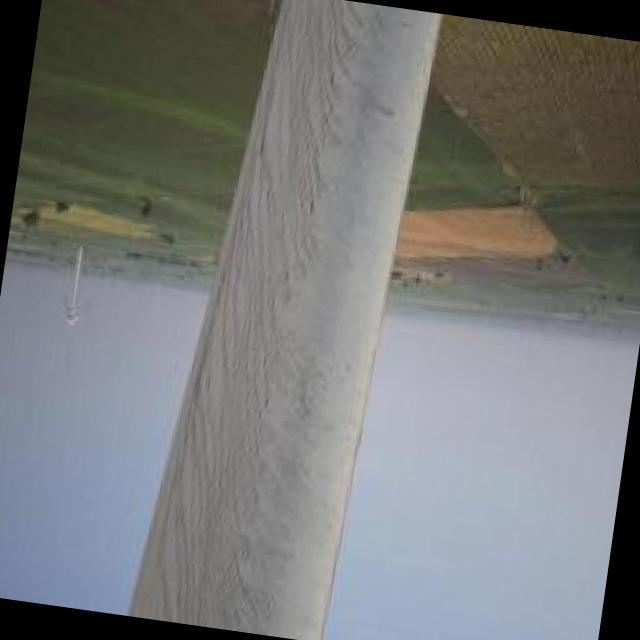Dirt: (128, 3, 404, 632)
